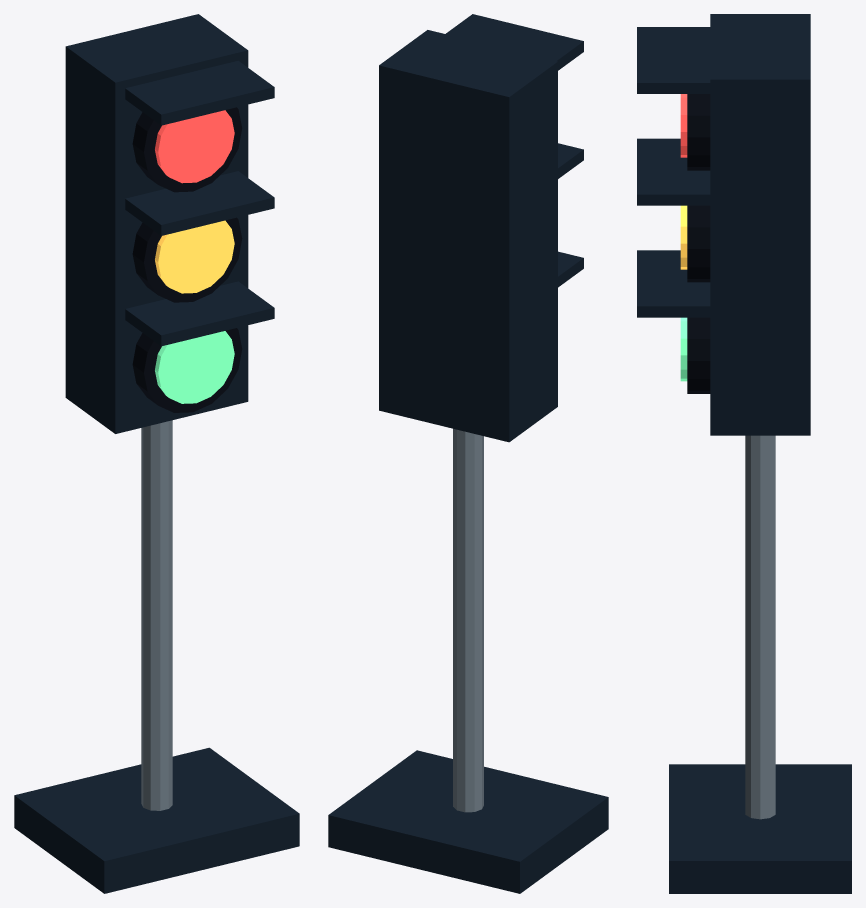
Rendered from pit_light_exit.glb.
3 renders of one model, left to right at view 1: azimuth 30°, elevation 25°; view 2: azimuth 150°, elevation 25°; view 3: azimuth 270°, elevation 25°, orthographic. The views are drawn at different scales.
Parts seen in each view (by area): view 1: Housing, LampAmber, LampRed, LampGreen; view 2: Housing; view 3: Housing, LampAmber, LampGreen, LampRed.
Boxes of the visible parts, x1=… form: Housing: x1=14, y1=14, x2=299, y2=893; LampAmber: x1=155, y1=220, x2=234, y2=293; LampRed: x1=155, y1=110, x2=234, y2=183; LampGreen: x1=155, y1=331, x2=234, y2=403; Housing: x1=328, y1=14, x2=608, y2=893; Housing: x1=637, y1=14, x2=851, y2=893; LampAmber: x1=680, y1=205, x2=687, y2=269; LampGreen: x1=680, y1=317, x2=687, y2=381; LampRed: x1=680, y1=94, x2=687, y2=157.
Bounding box in the file's own units: 0.5 × 1.93 × 0.47.
